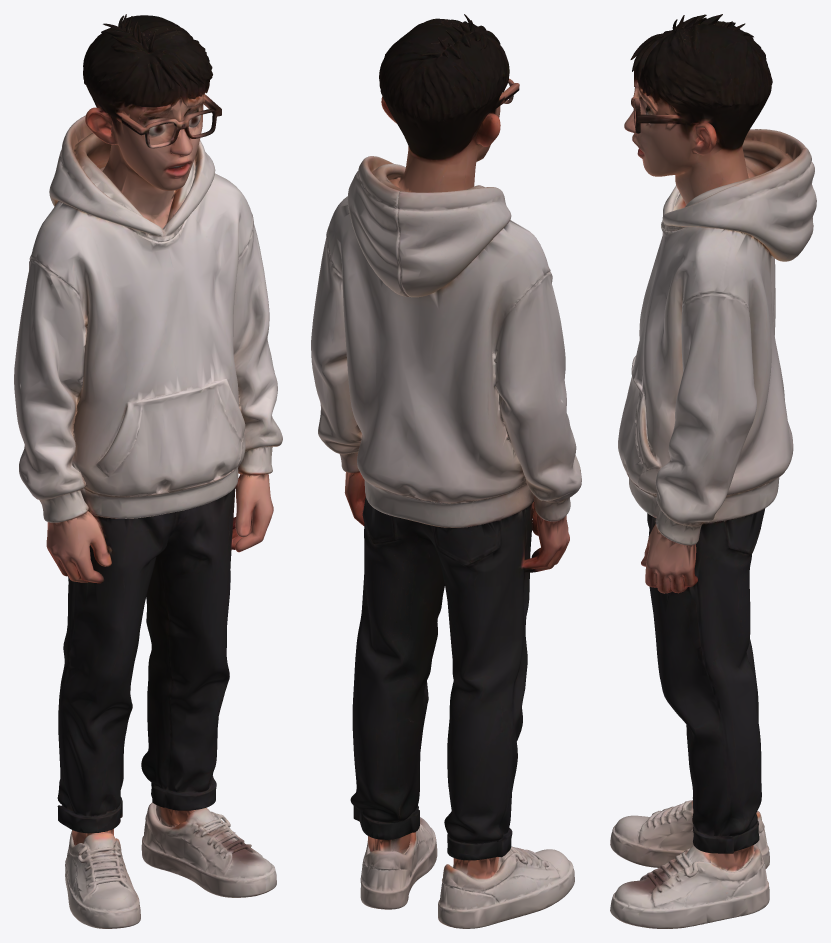
File: mood-06.glb
3 renders of one model, left to right at view 1: azimuth 30°, elevation 25°; view 2: azimuth 150°, elevation 25°; view 3: azimuth 270°, elevation 25°, orthographic.
Parts seen in each view (by area): view 1: node_0; view 2: node_0; view 3: node_0.
Part boxes in pixels (left/top/right/bottom): node_0: left=14, top=14, right=282, bottom=928; node_0: left=311, top=14, right=581, bottom=928; node_0: left=610, top=14, right=816, bottom=928.
Size of the model in its own units: 0.3549 by 1.17 by 0.2534.
1 material, 1 textured.
